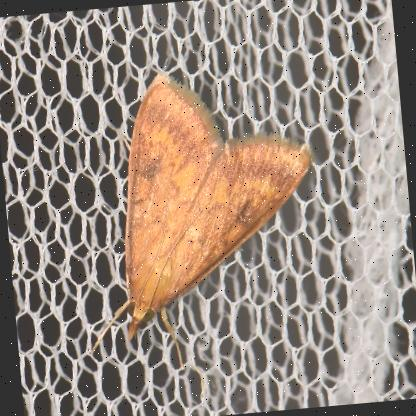Asian Corn Borer Moth: (62, 57, 334, 382)
